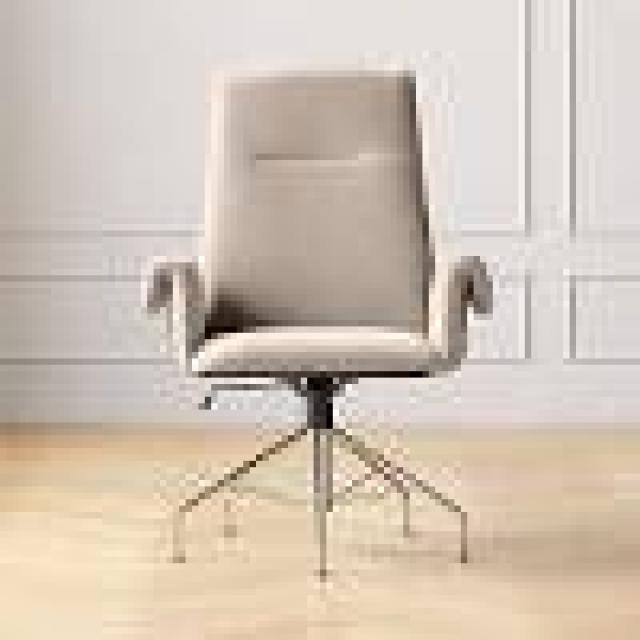chair: (114, 48, 605, 603)
